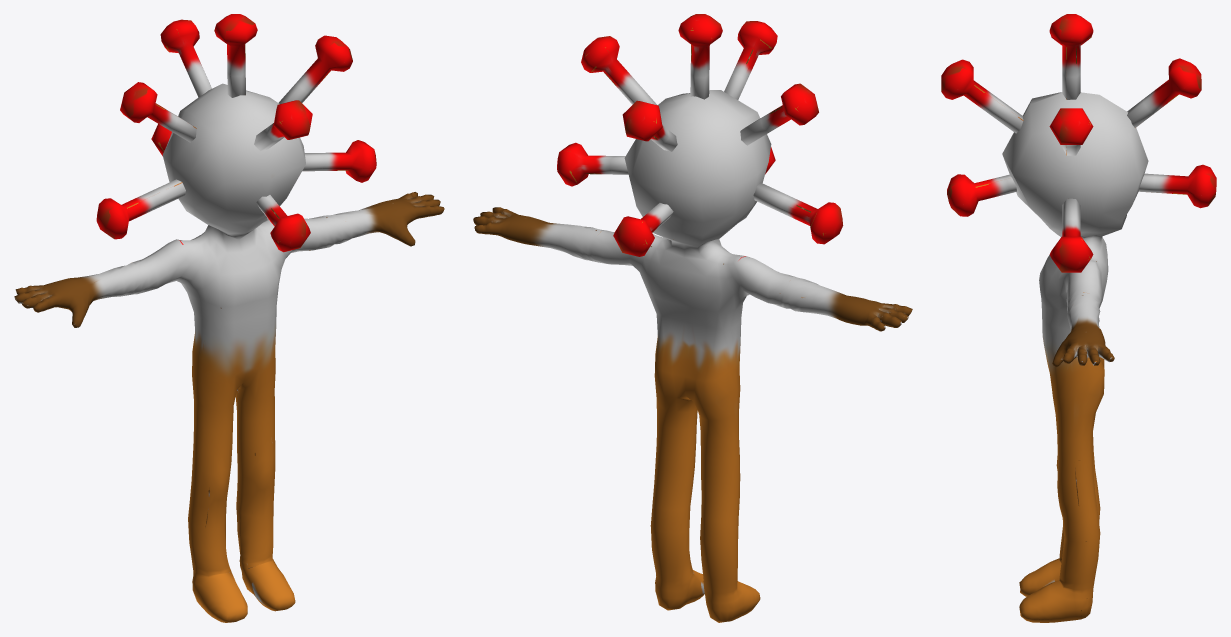
File: virus.fbx
3 views of the same model, side by side, from view 1: azimuth 30°, elevation 25°; view 2: azimuth 150°, elevation 25°; view 3: azimuth 270°, elevation 25° (orthographic). The views are drawn at different scales.
Parts seen in each view (by area): view 1: virus; view 2: virus; view 3: virus.
Boxes of the visible parts, box(x1,y1,x2,y2) form: virus: box(14, 14, 444, 622); virus: box(473, 14, 912, 622); virus: box(941, 14, 1216, 622).
Bounding box in the file's own units: 156 × 208 × 87.99.
Materials: 1 (1 with a texture image).
